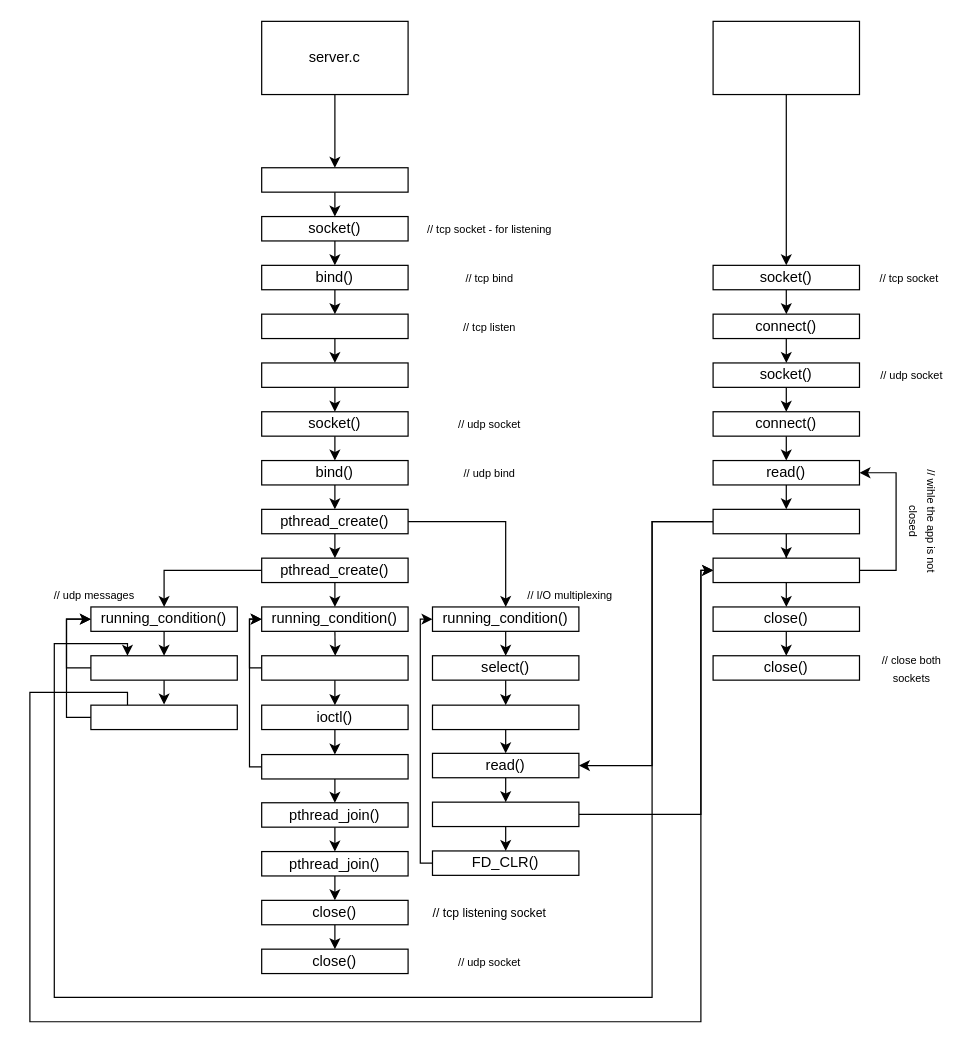
Image size: 974x1053. Some labels were removed from this diagram. Each missing label, with the centre of its shape:
"accept()" belongs at (334,667).
"client.c" belongs at (785,57).
"FD_ISSET()" belongs at (505,717).
"FD_SET()" belongs at (334,766).
"FD_ZERO()" belongs at (334,179).
"listen()" belongs at (334,326).
"read() / recvfrom()" belongs at (785,570).
"recvfrom()" belongs at (163,667).
"sendto()" belongs at (163,717).
"setsockopt()" belongs at (334,374).
"write ()" belongs at (505,814).
"write () / sendto()" belongs at (785,521).
